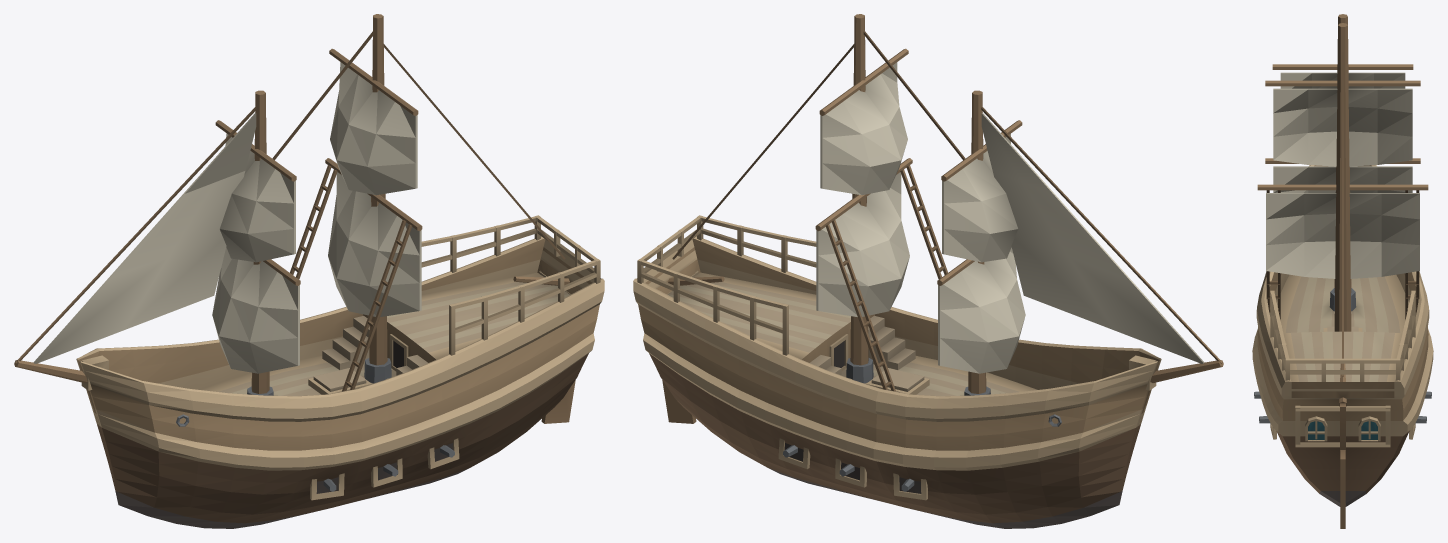
The model's file is brig.glb.
3 renders of one model, left to right at view 1: azimuth 30°, elevation 25°; view 2: azimuth 150°, elevation 25°; view 3: azimuth 270°, elevation 25°, orthographic. The views are drawn at different scales.
Visible parts, largest first — view 1: brig; view 2: brig; view 3: brig.
Boxes of the visible parts, x1=… form: brig: x1=14, y1=14, x2=604, y2=528; brig: x1=633, y1=14, x2=1223, y2=528; brig: x1=1252, y1=14, x2=1433, y2=528.
Bounding box in the file's own units: 16.35 × 13.2 × 4.89.
